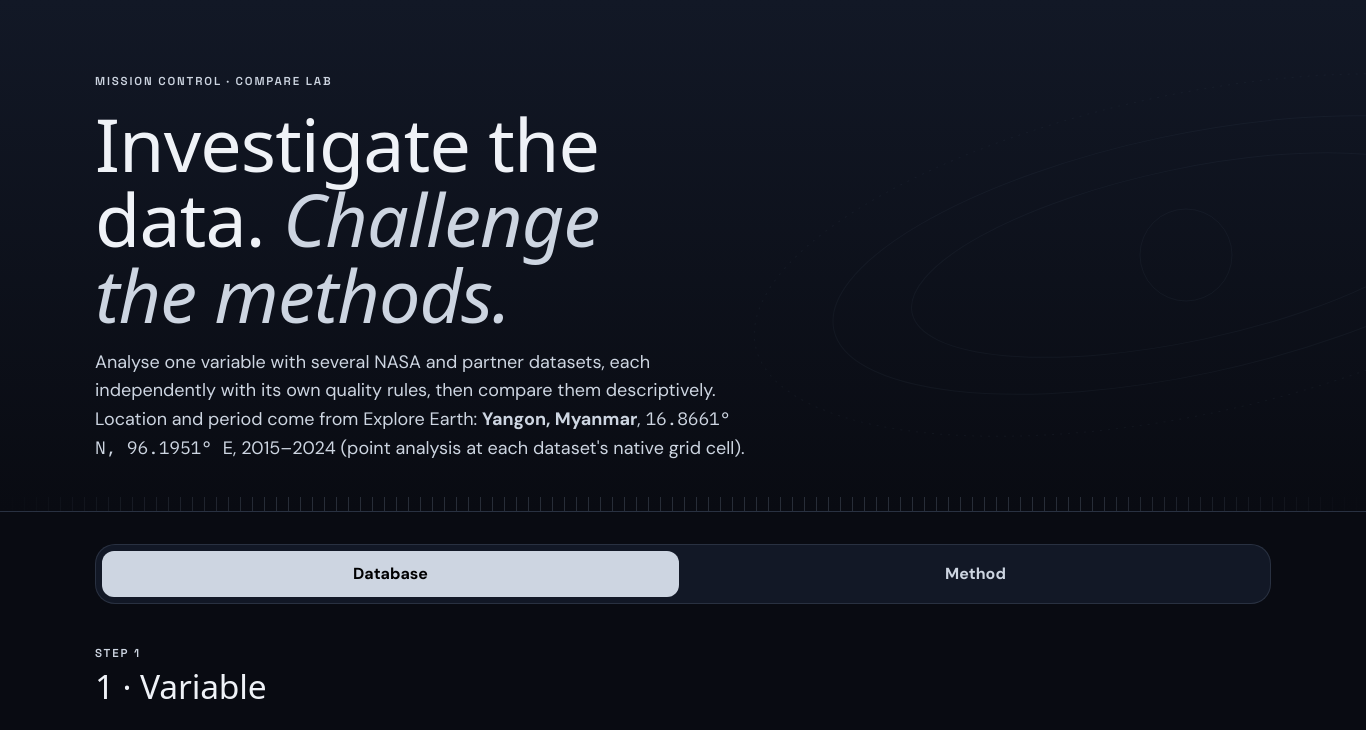
Compare datasets page › binds Method to the exact completed investigation rather than the current selection
Click the tab "Method": (976,574) left=687, top=551, right=1264, bottom=597
(page scrolled)
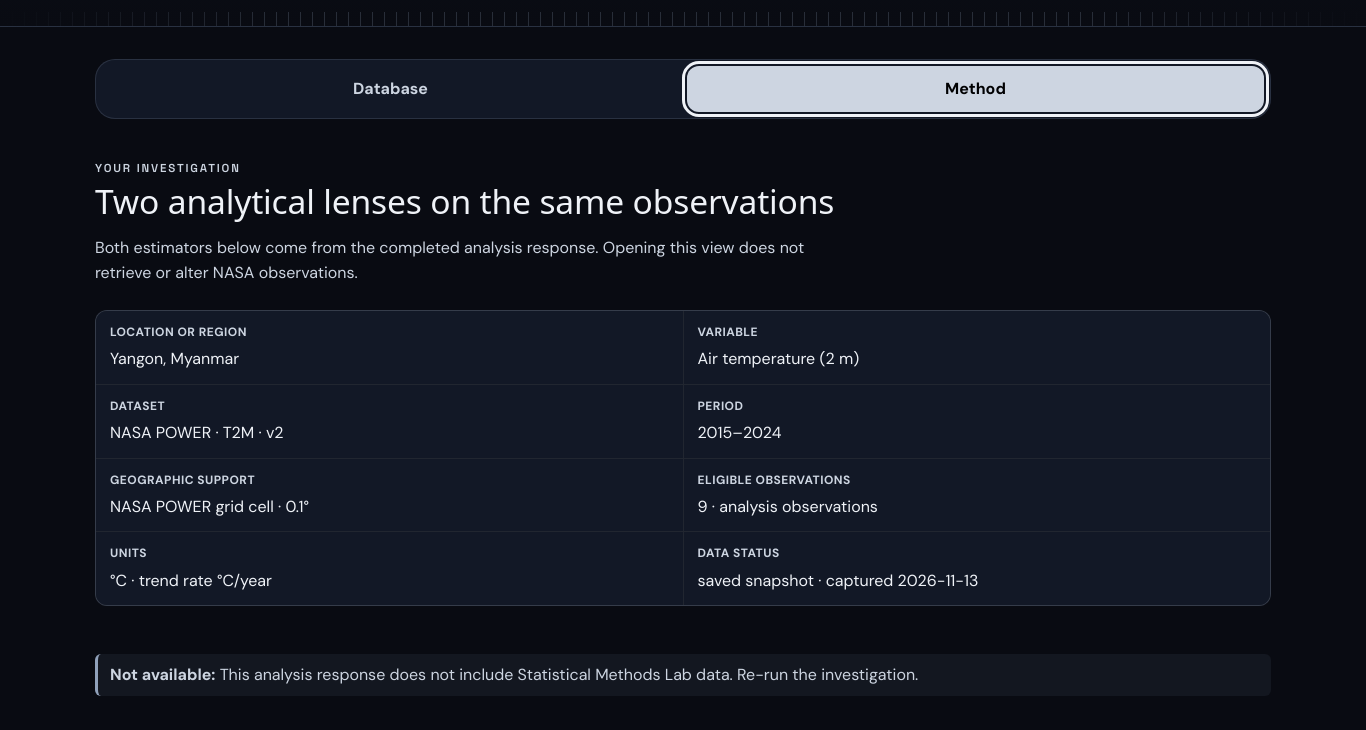
Expected: the element named "Active investigation" shows "Yangon, Myanmar", left=110, top=348, right=239, bottom=369
Expected: the element named "Active investigation" shows "Air temperature (2 m)", left=698, top=348, right=859, bottom=369
Expected: the element named "Active investigation" shows "NASA POWER", left=110, top=422, right=211, bottom=443
